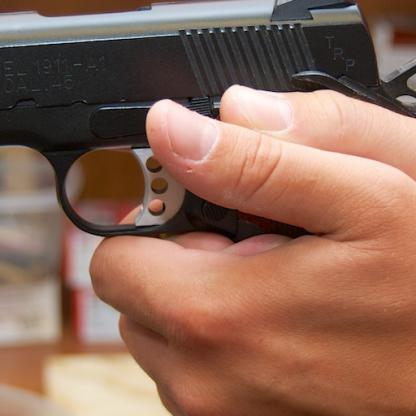gun: (0, 0, 415, 262)
